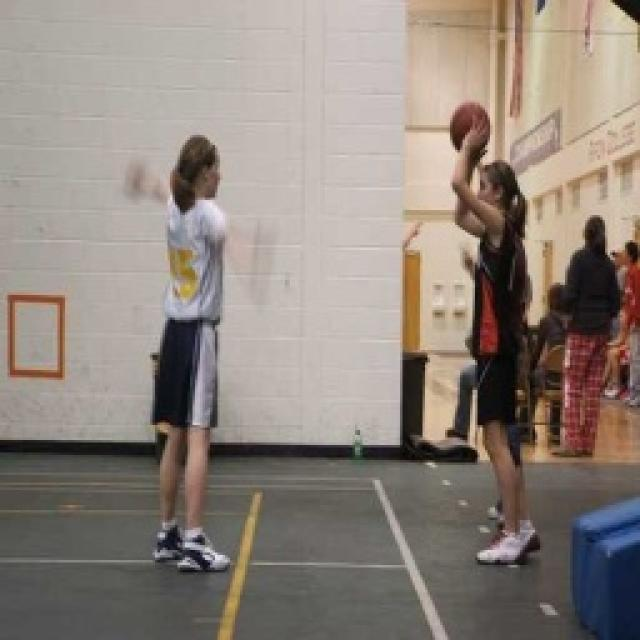basketball: (444, 96, 494, 159)
